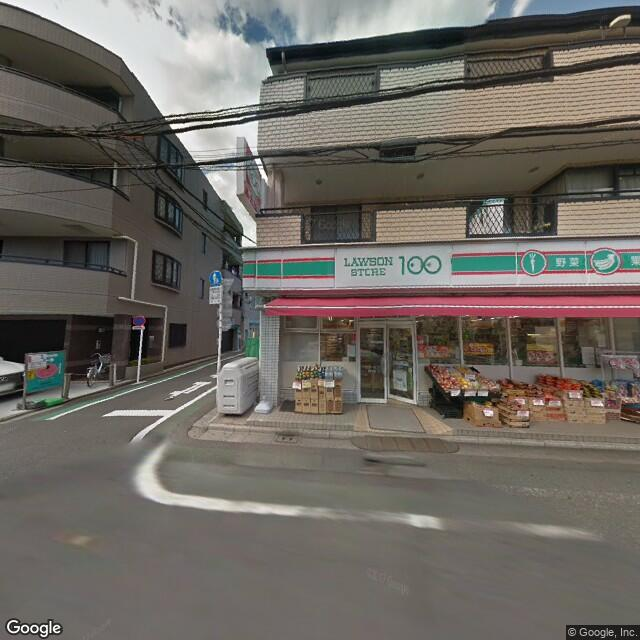lawson: (239, 232, 639, 293)
